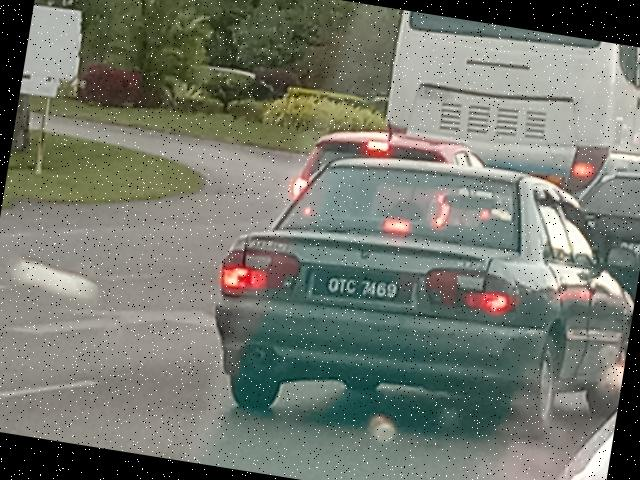License_Plate: (312, 265, 418, 313)
car: (194, 124, 640, 467)
